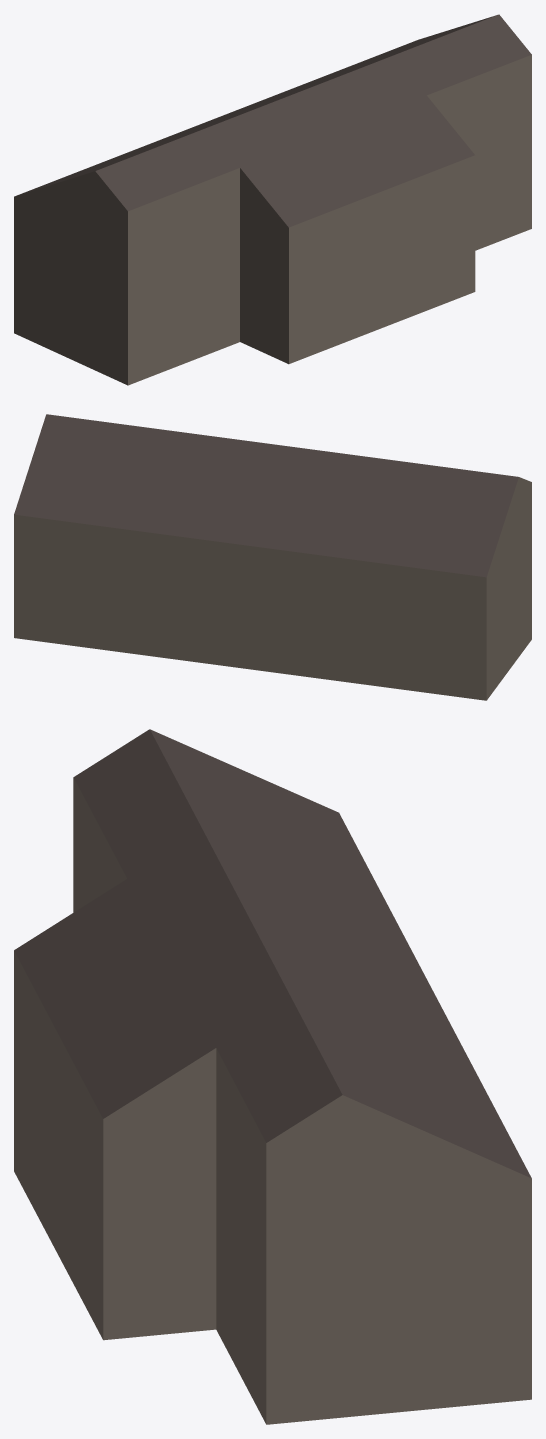
The picture shows the model from 3 angles, top to bottom: view 1: azimuth 30°, elevation 25°; view 2: azimuth 150°, elevation 25°; view 3: azimuth 270°, elevation 25°; orthographic projection. The views are drawn at different scales.
Visible parts, largest first — view 1: HP-w859488921; view 2: HP-w859488921; view 3: HP-w859488921.
Part boxes in pixels (<box>): HP-w859488921: <box>14,14,531,385</box>; HP-w859488921: <box>14,414,531,700</box>; HP-w859488921: <box>14,729,531,1424</box>.
Bounding box in the file's own units: 34.15 × 13.13 × 19.11.
